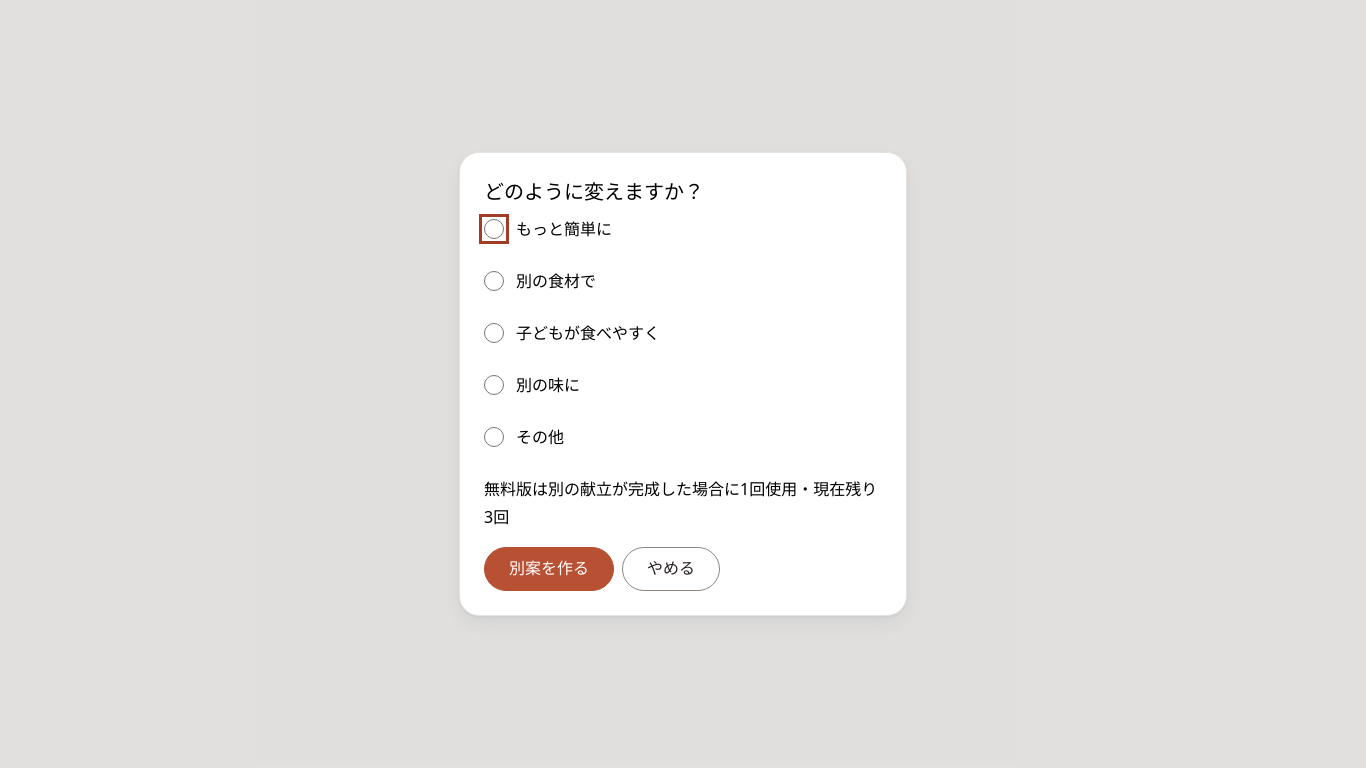
Scenario: RegenerationSheet › requires a reason before submit
Step 1. Click the button "別案を作る" → (549, 569), box [484,547,614,591]
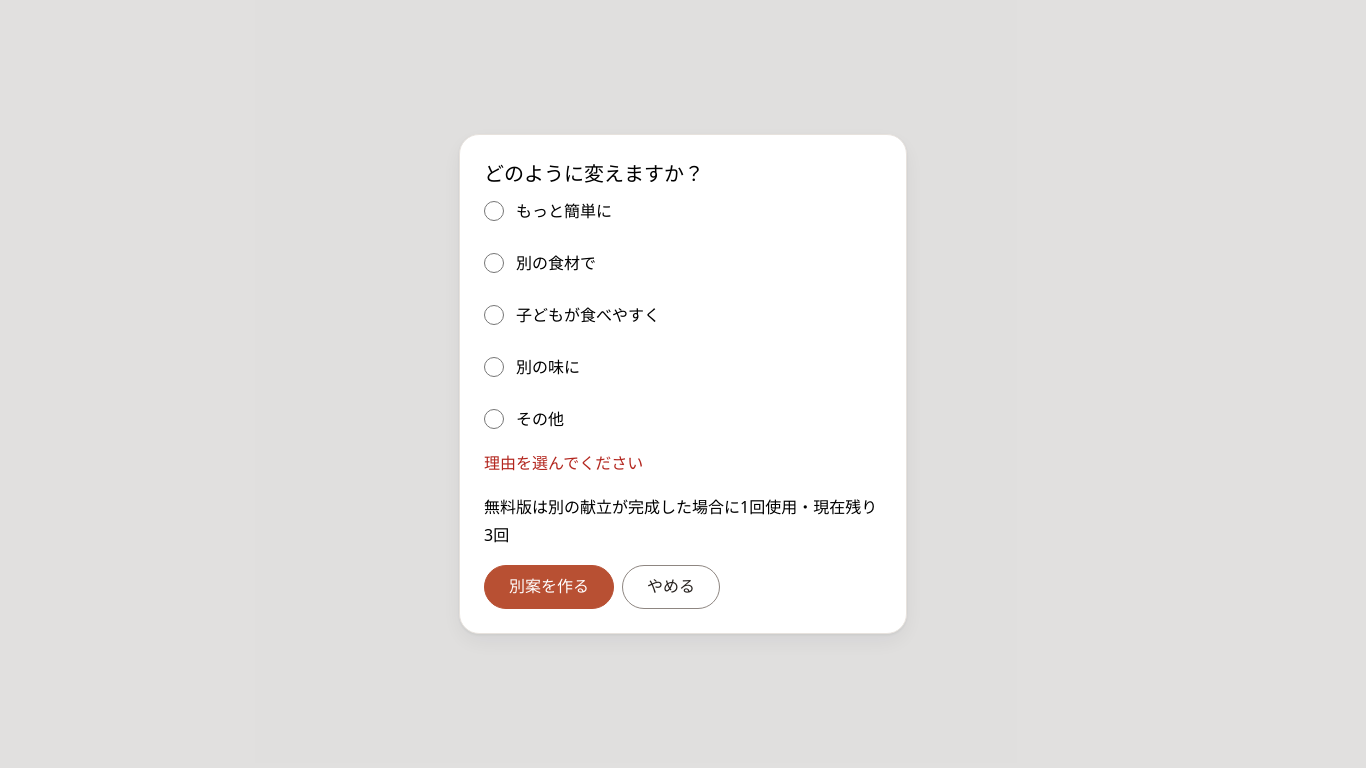
Expected: the message reads "理由を選んでください", [484,452,643,474]
